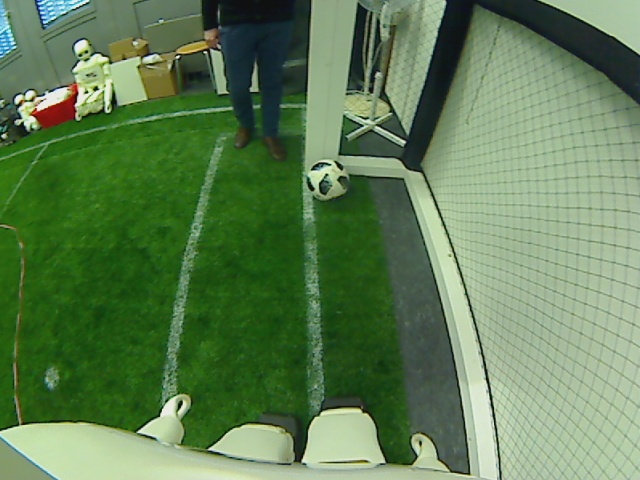ball: (304, 157, 351, 199)
